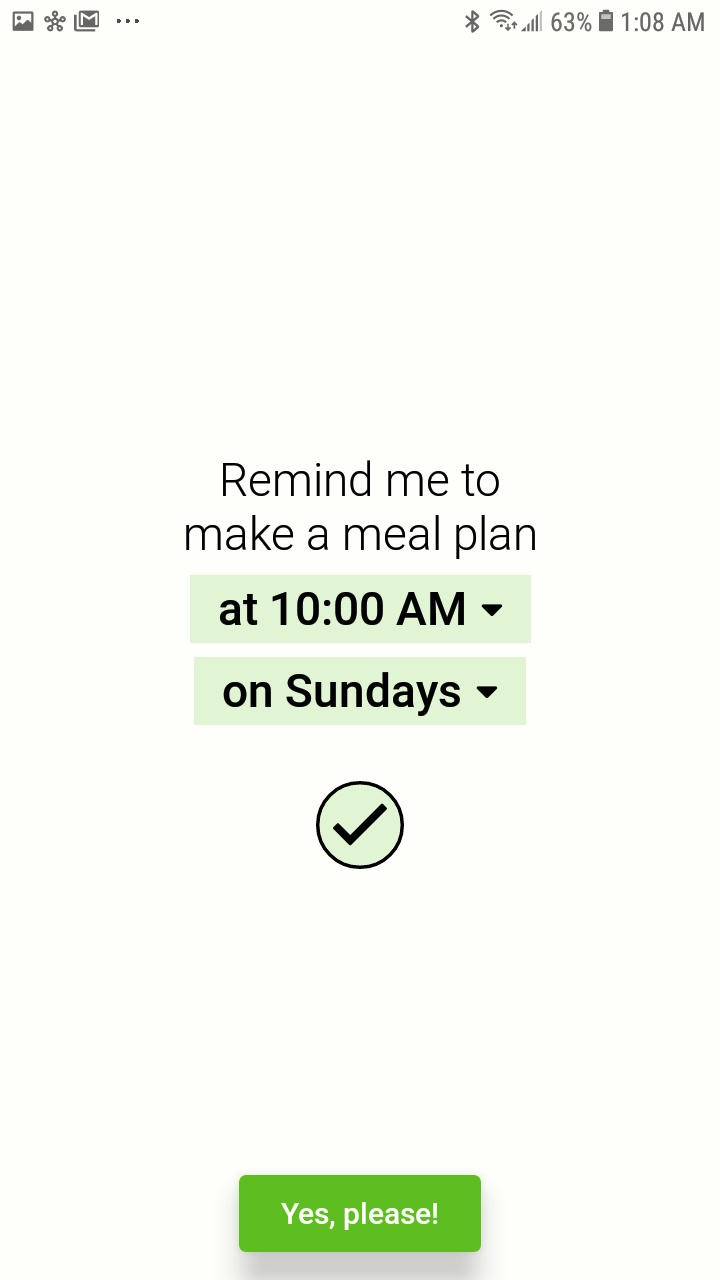Icon: (316, 781, 405, 870), (476, 686, 498, 699), (482, 604, 503, 617)
Spinner: (190, 575, 532, 644), (194, 657, 526, 726)
Text: (186, 460, 536, 560), (223, 672, 461, 717), (220, 592, 465, 626)
TextButton: (239, 1174, 482, 1252)
UpperTaskBar: (1, 1, 720, 35)
